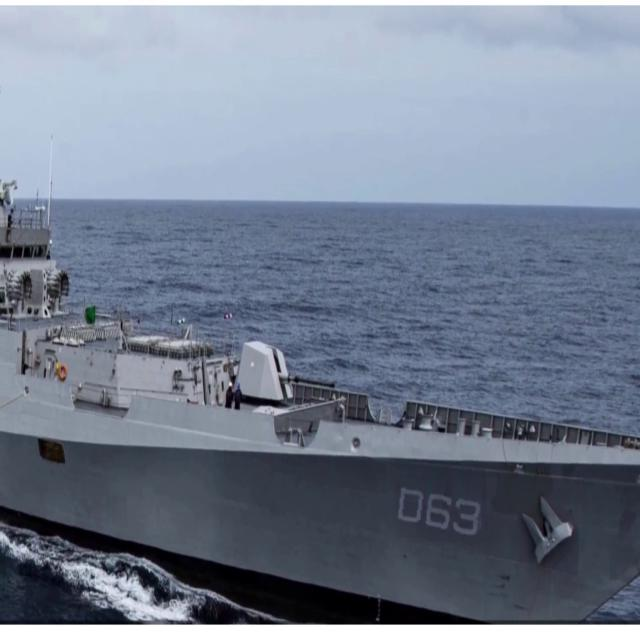OCR: (396, 482, 485, 542)
